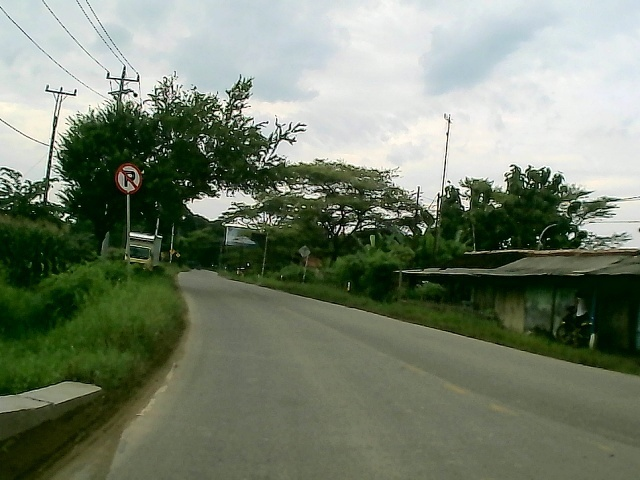Dilarang parkir: (111, 161, 144, 197)
